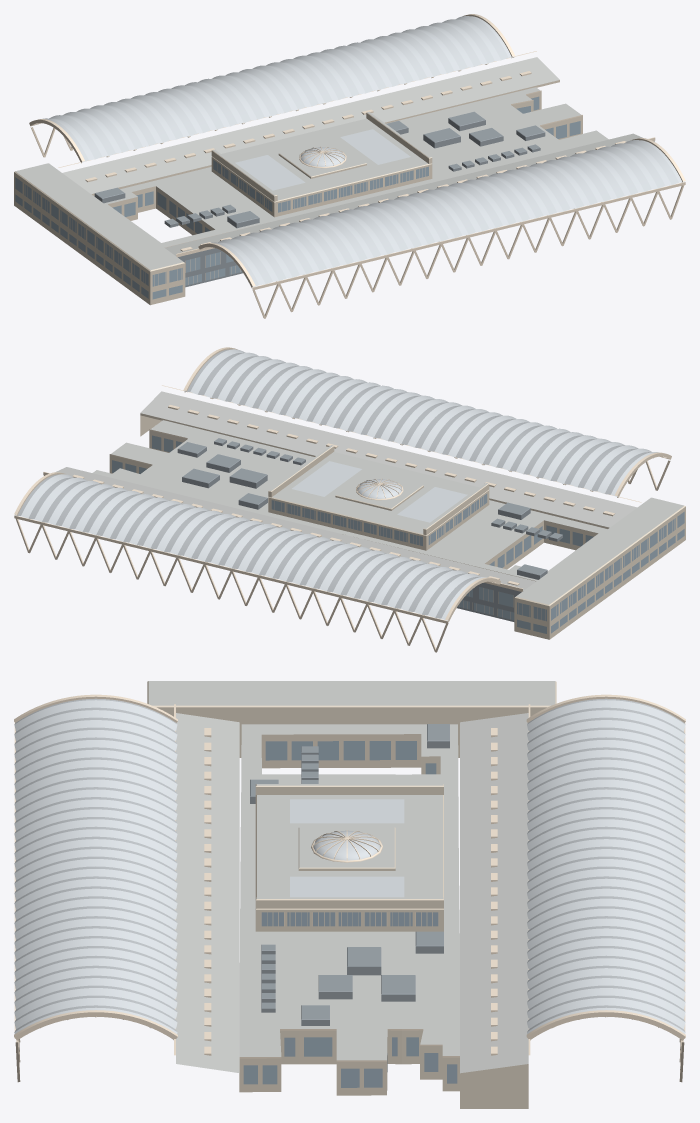
File: atl-hartsfield-jackson-domestic-terminal.detail.glb
3 views of the same model, one above another, from view 1: azimuth 30°, elevation 25°; view 2: azimuth 150°, elevation 25°; view 3: azimuth 270°, elevation 25° (orthographic). The views are drawn at different scales.
Visible parts, largest first — view 1: Hartsfield-Jackson Domestic Terminal; view 2: Hartsfield-Jackson Domestic Terminal; view 3: Hartsfield-Jackson Domestic Terminal.
Part boxes in pixels (x1,y1,x2,y2): Hartsfield-Jackson Domestic Terminal: (14,14,685,318); Hartsfield-Jackson Domestic Terminal: (14,347,685,652); Hartsfield-Jackson Domestic Terminal: (14,681,685,1108).
Bounding box in the file's own units: 313 × 31 × 235.
